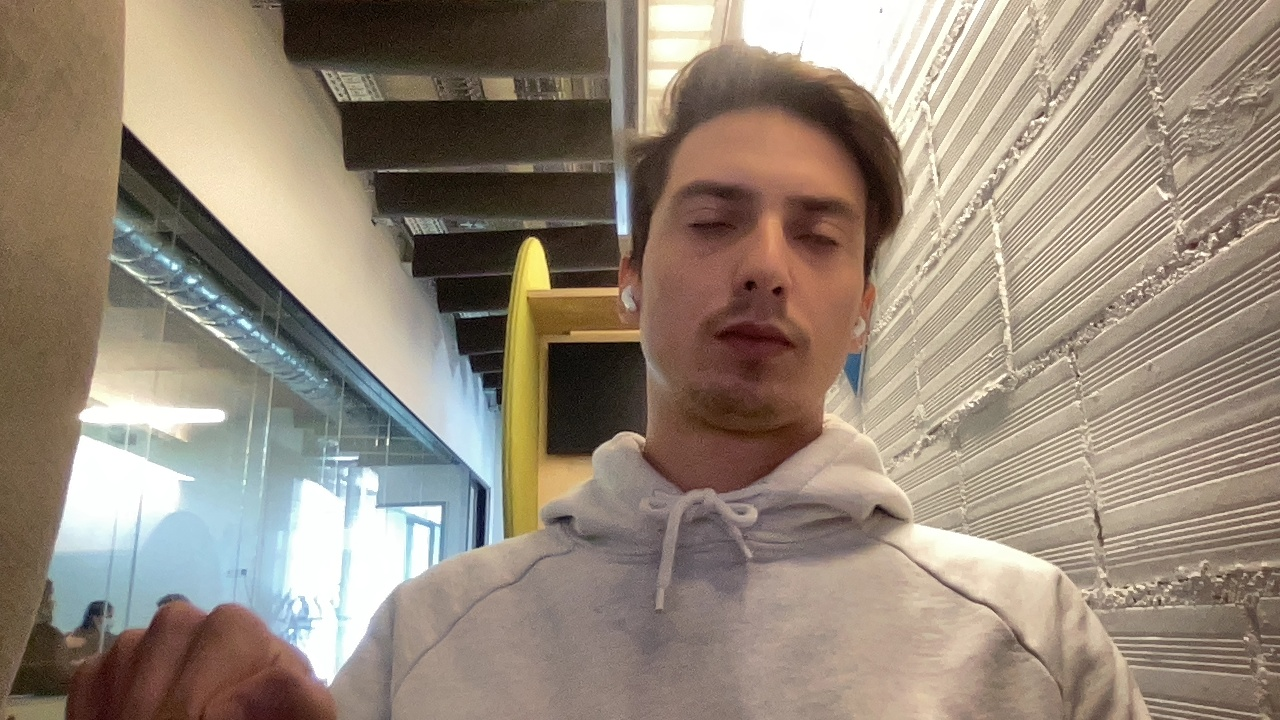no: (36, 506, 344, 720)
